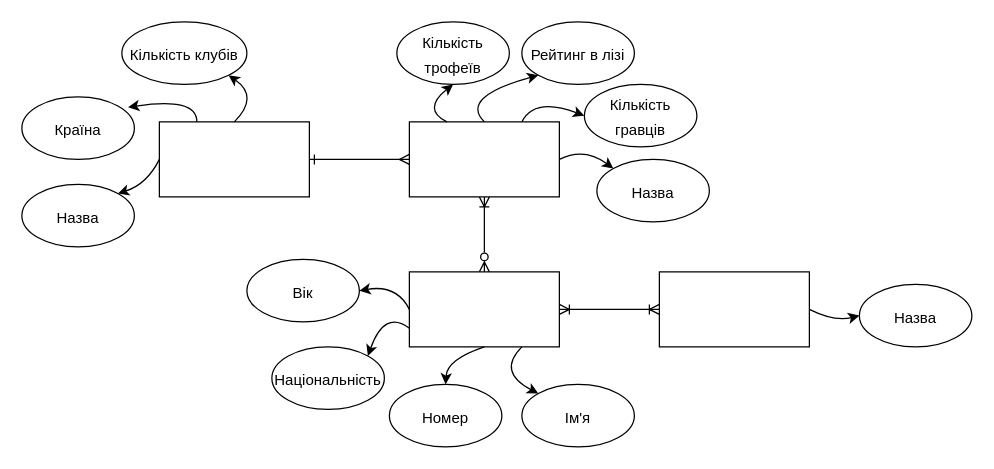
Image size: 994x469. Some labels were removed from this diagram. The shapes that lost their labels are listed below. From the top down, each one's centre as x and y in pixels, then its label:
(x=233, y=159): Ліга
(x=483, y=159): Клуб
(x=483, y=309): Гравець
(x=733, y=309): Позиція
